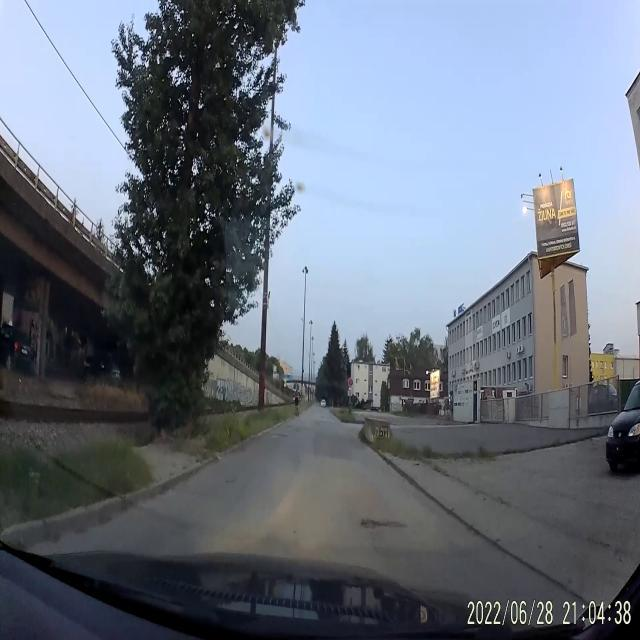Pothole: (356, 508, 406, 536), (272, 433, 280, 439)
